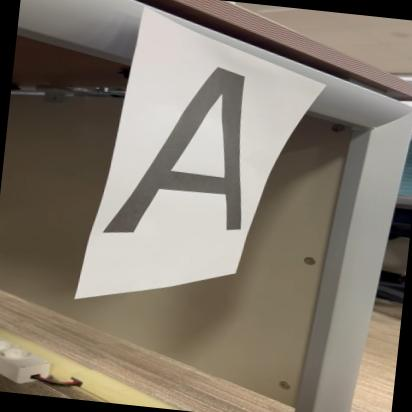seat: (104, 54, 268, 250)
